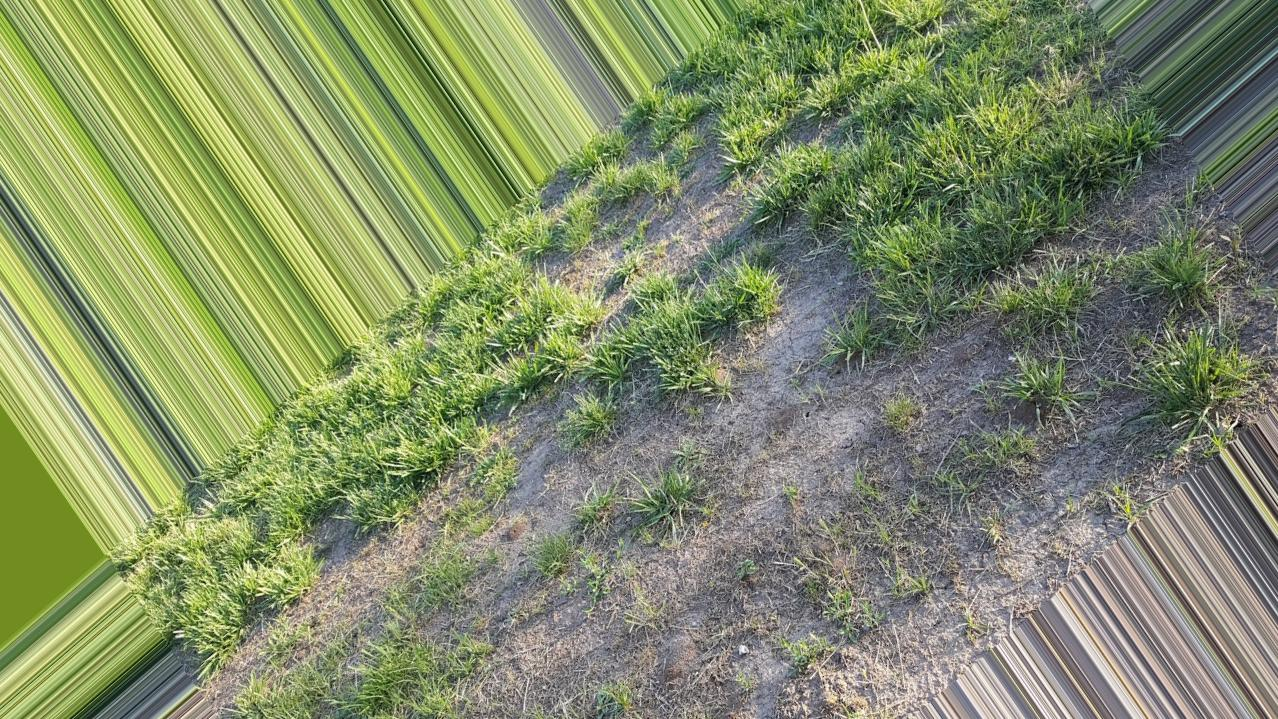patch: (335, 540, 902, 702), (538, 424, 1065, 537), (899, 337, 1179, 466), (766, 291, 874, 414), (618, 214, 758, 262)
